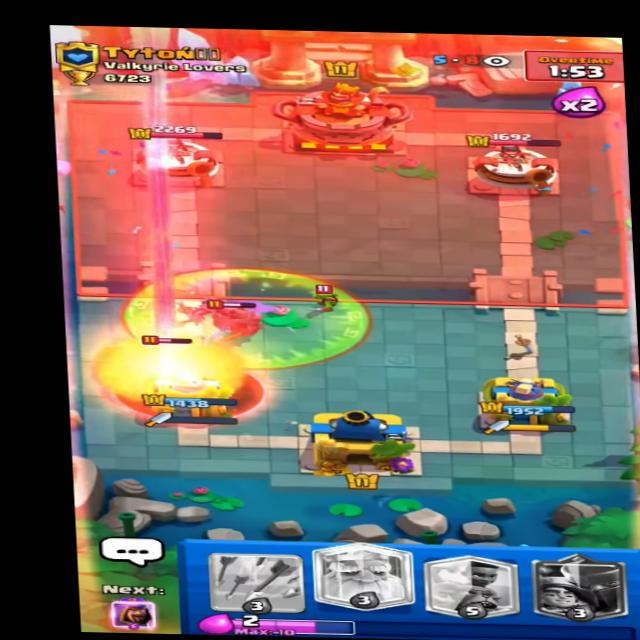Goblin: (298, 280, 348, 313)
Pekka: (180, 296, 280, 342)
Void: (113, 262, 371, 370)
